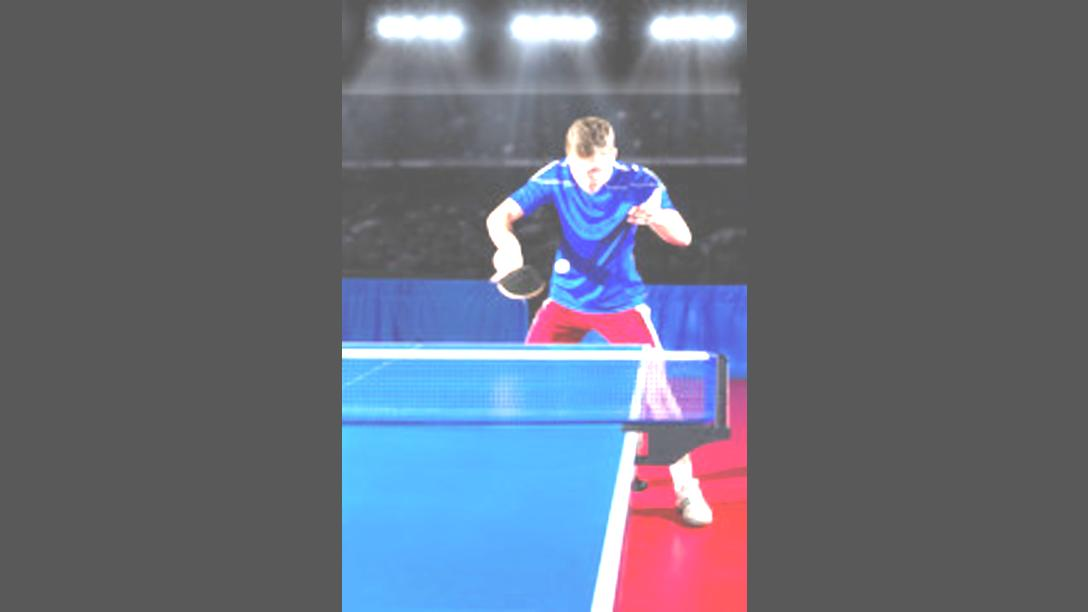Table-Tennis-Ball: (555, 260, 567, 272)
